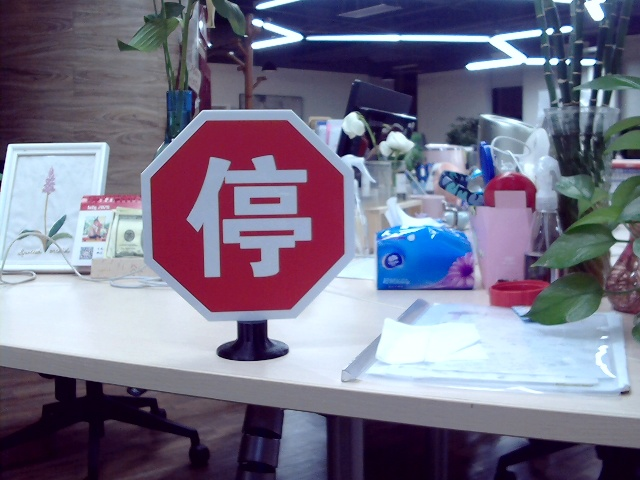stop: (186, 151, 320, 279)
